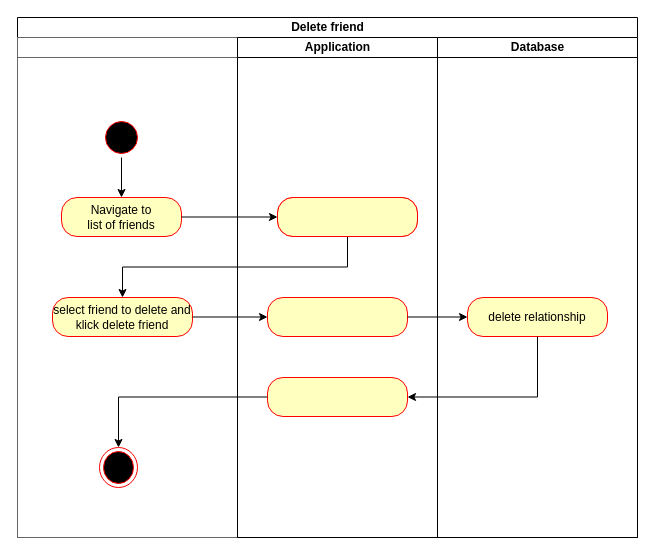
The diagram is 655 pixels wide and 555 high, and some of its shapes have lost their labels. Here are the shapes that lost their labels. From the top down, the box of each, then its label:
(276, 196, 418, 236): display list of friends
(16, 36, 238, 538): Logged in User
(266, 296, 408, 336): remove friend from list
(266, 376, 408, 416): display success
